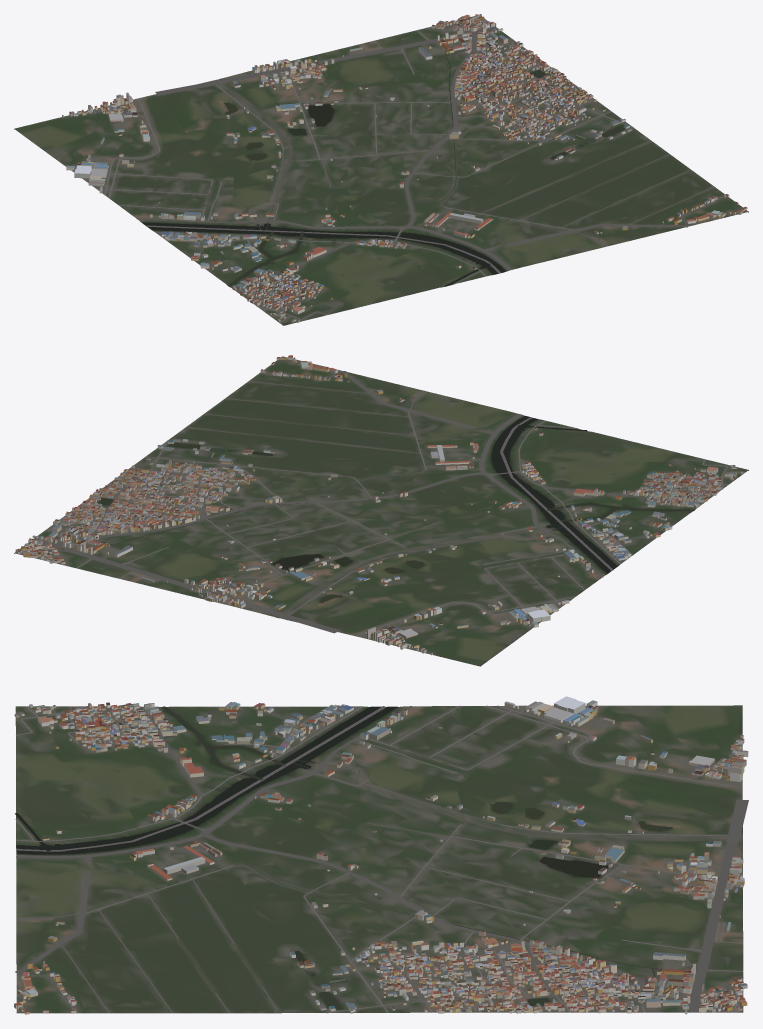
The picture shows the model from 3 angles, top to bottom: view 1: azimuth 30°, elevation 25°; view 2: azimuth 150°, elevation 25°; view 3: azimuth 270°, elevation 25°; orthographic projection. The views are drawn at different scales.
Parts seen in each view (by area): view 1: ground, buildings, roads, water; view 2: ground, buildings, roads, water; view 3: ground, buildings, roads, water.
Part boxes in pixels (x1=…): ground: x1=14, y1=16, x2=748, y2=325; buildings: x1=62, y1=14, x2=747, y2=322; roads: x1=75, y1=18, x2=725, y2=322; water: x1=142, y1=49, x2=624, y2=286; ground: x1=14, y1=356, x2=748, y2=666; buildings: x1=15, y1=355, x2=743, y2=655; roads: x1=19, y1=371, x2=744, y2=636; water: x1=97, y1=416, x2=694, y2=617; ground: x1=15, y1=705, x2=743, y2=1013; buildings: x1=14, y1=696, x2=748, y2=1014; roads: x1=15, y1=705, x2=748, y2=1013; water: x1=15, y1=706, x2=742, y2=1009.
Size of the model in its own units: 1424 by 30.85 by 1418.
